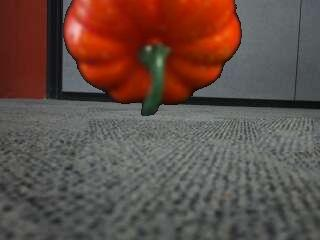Pumpkin: (60, 0, 241, 116)
